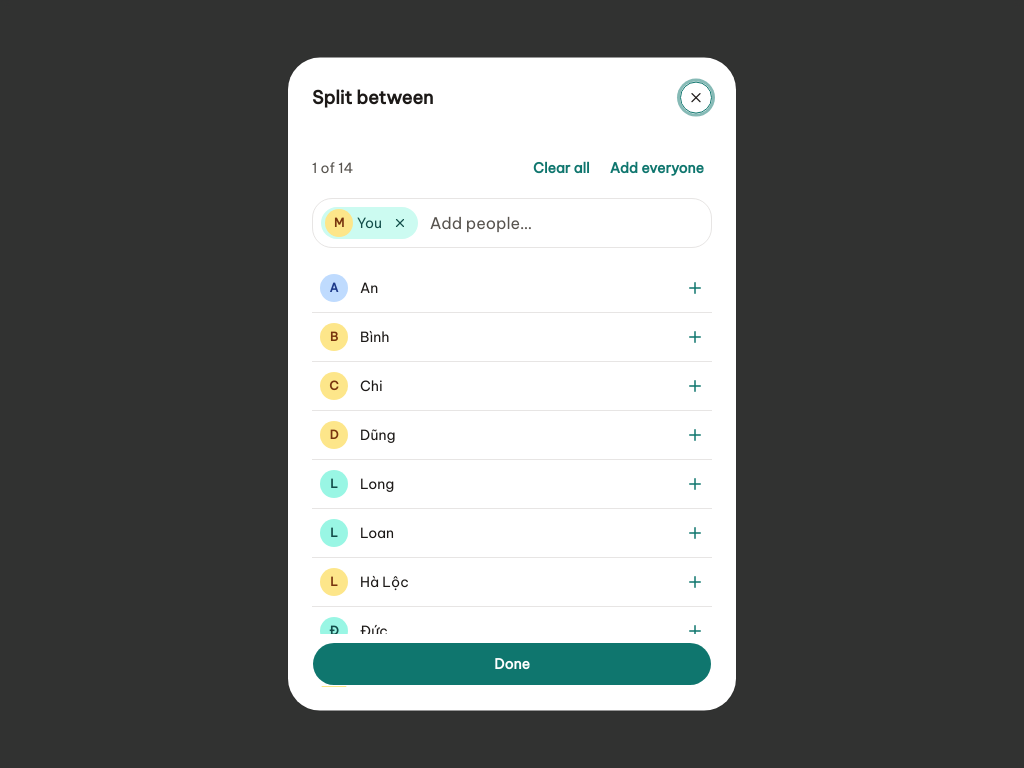
Scenario: SplitPeopleSheet, searching › Enter adds the first suggestion
Type "duc" into the field labelled "Add people" at (564, 223), box [426, 207, 703, 239]
Then press Enter
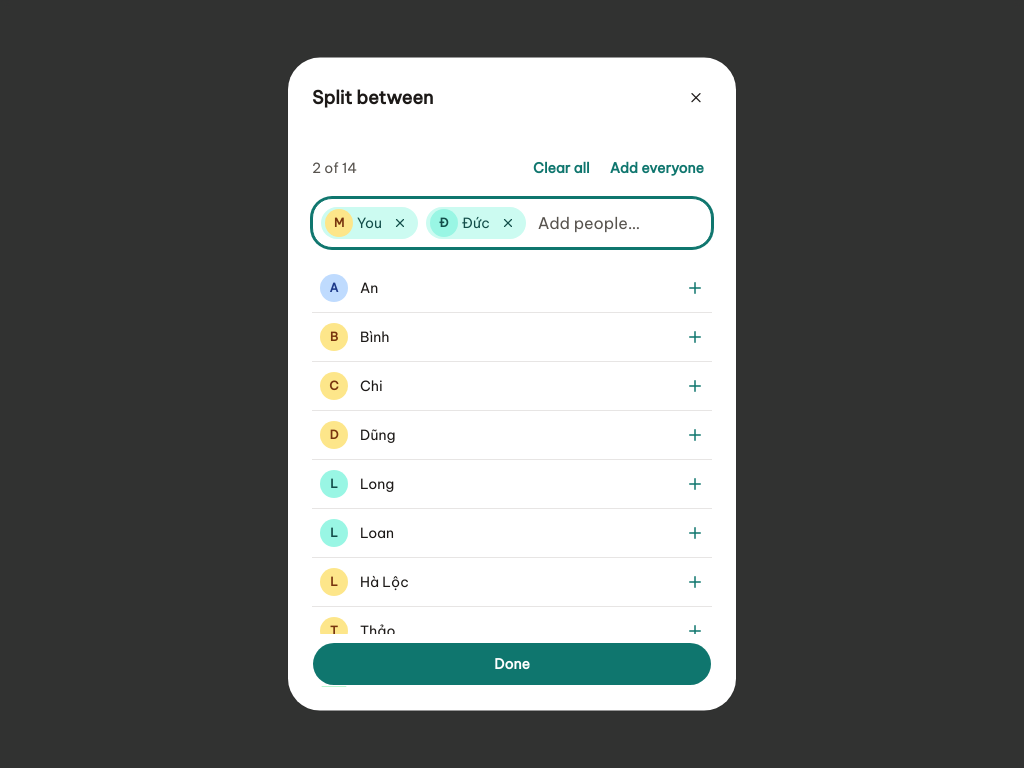
Expected: the button named "Remove Đức" is shown, [494, 209, 522, 237]
